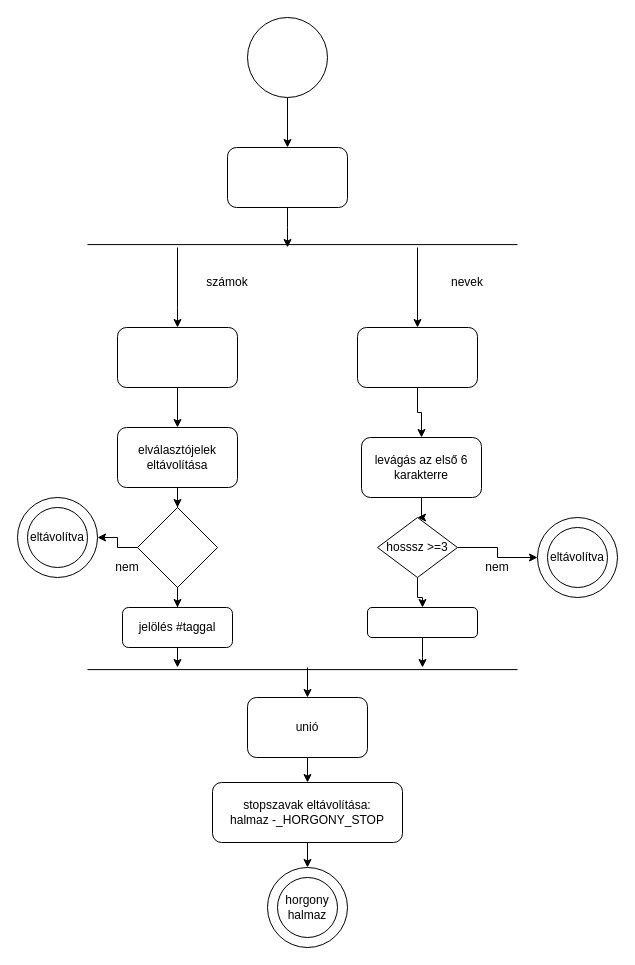
This 635x965 diagram has some shape labels left out. The shapes that lost their labels are listed below. From the top down, each one's box as (x1, y1, x2, y2) in pixels, then its label:
(226, 146, 348, 208): Bemenet: nyers szövegrészlet
(116, 326, 238, 388): számminták keresése
(356, 326, 478, 388): nagy betűs rövidítés
(136, 506, 218, 588): hossz>=3
(366, 606, 478, 638): jelölés @ taggal
